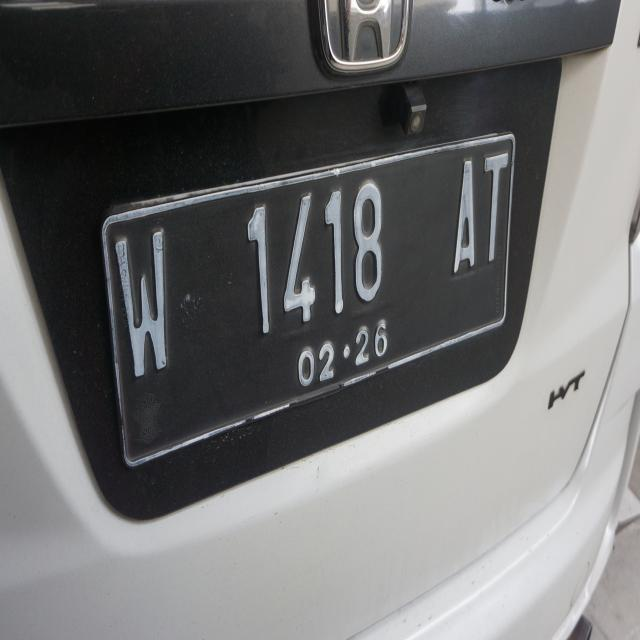1: (231, 198, 276, 344), (317, 186, 354, 325)
4: (271, 189, 321, 332)
8: (346, 176, 392, 316)
A: (440, 148, 480, 282)
T: (477, 140, 508, 270)
W: (108, 221, 170, 388)
